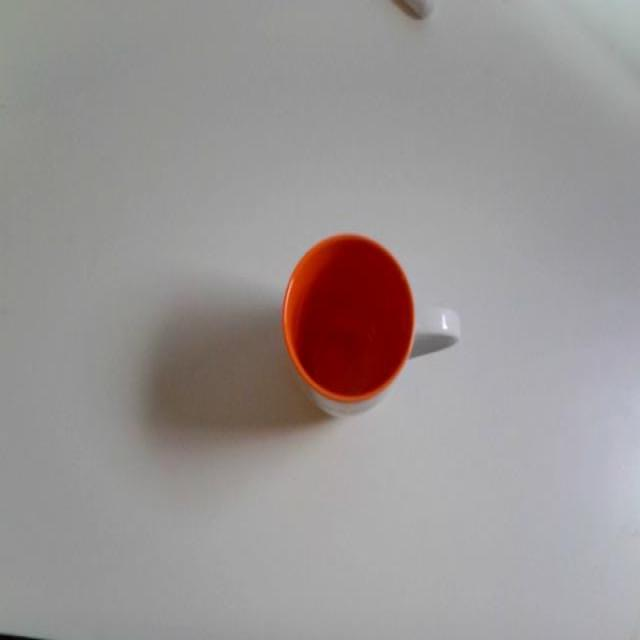cup: (256, 170, 462, 465)
